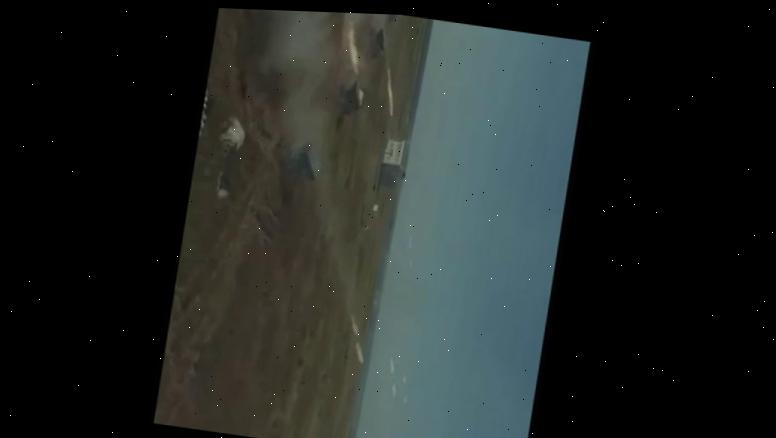rszo: (280, 139, 323, 183), (356, 22, 392, 63), (334, 79, 364, 117), (386, 14, 401, 23)
